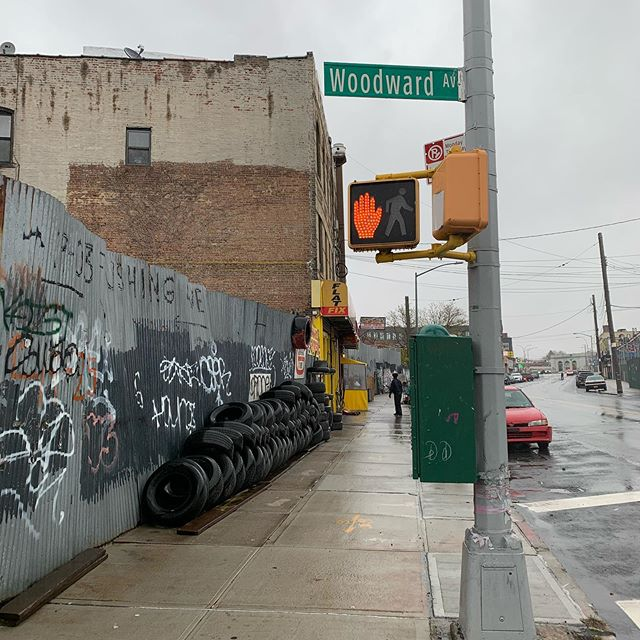building: (1, 40, 334, 323)
graffiti: (1, 232, 312, 509)
sidewalk: (42, 417, 577, 640)
sign: (321, 53, 467, 107), (347, 172, 427, 255)
street: (514, 389, 640, 626)
